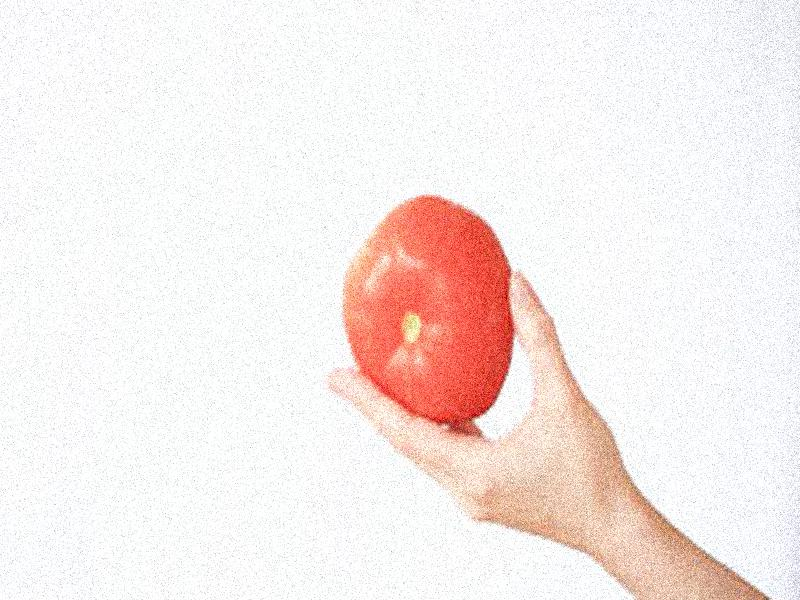Tomato: (341, 196, 513, 418)
